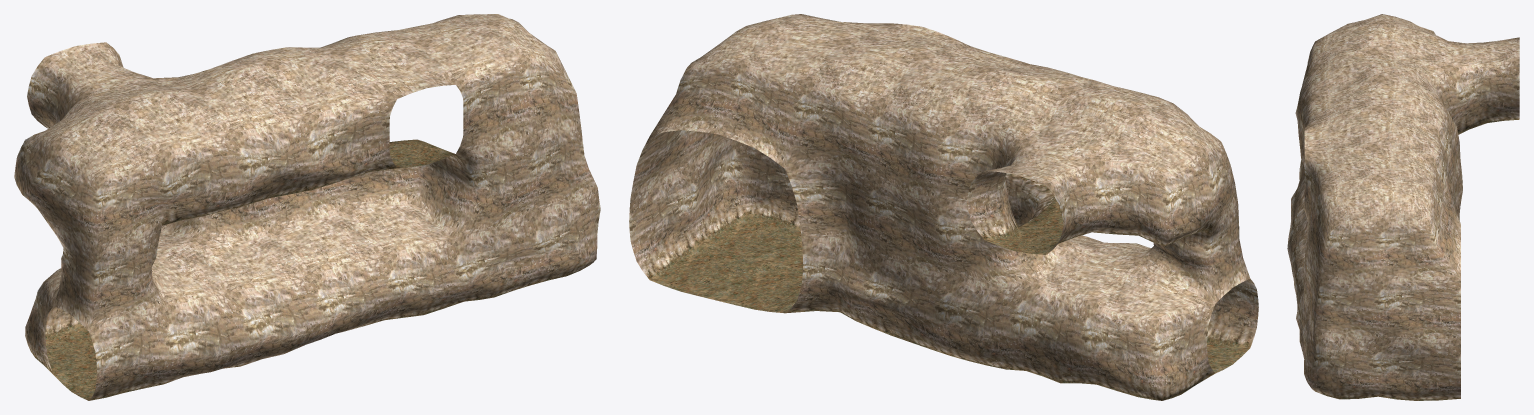
The model's file is thm_all_cave_s03_mirror_r11_mesh_r11.fbx.
3 views of the same model, side by side, from view 1: azimuth 30°, elevation 25°; view 2: azimuth 150°, elevation 25°; view 3: azimuth 270°, elevation 25° (orthographic). The views are drawn at different scales.
Visible parts, largest first — view 1: mesh_node; view 2: mesh_node; view 3: mesh_node.
Part boxes in pixels (<box>): mesh_node: <box>14,14,600,400</box>; mesh_node: <box>629,14,1258,400</box>; mesh_node: <box>1287,14,1519,400</box>.
Bounding box in the file's own units: 58.69 × 27.21 × 26.24.
